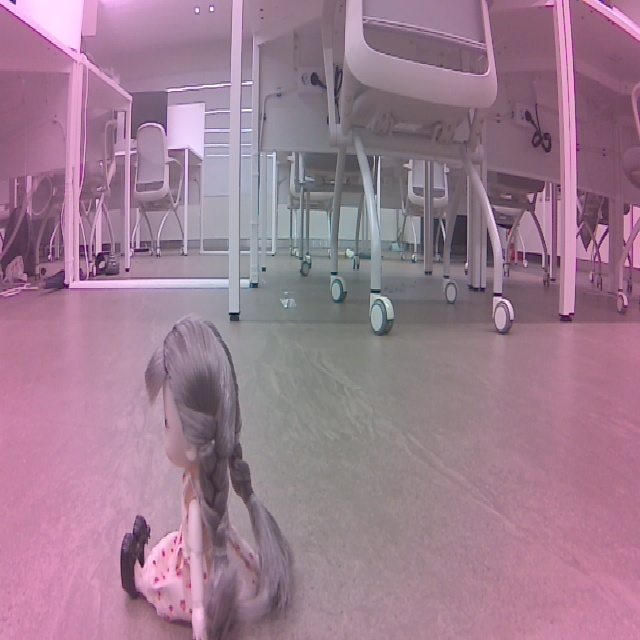장애물: (151, 286, 349, 593)
